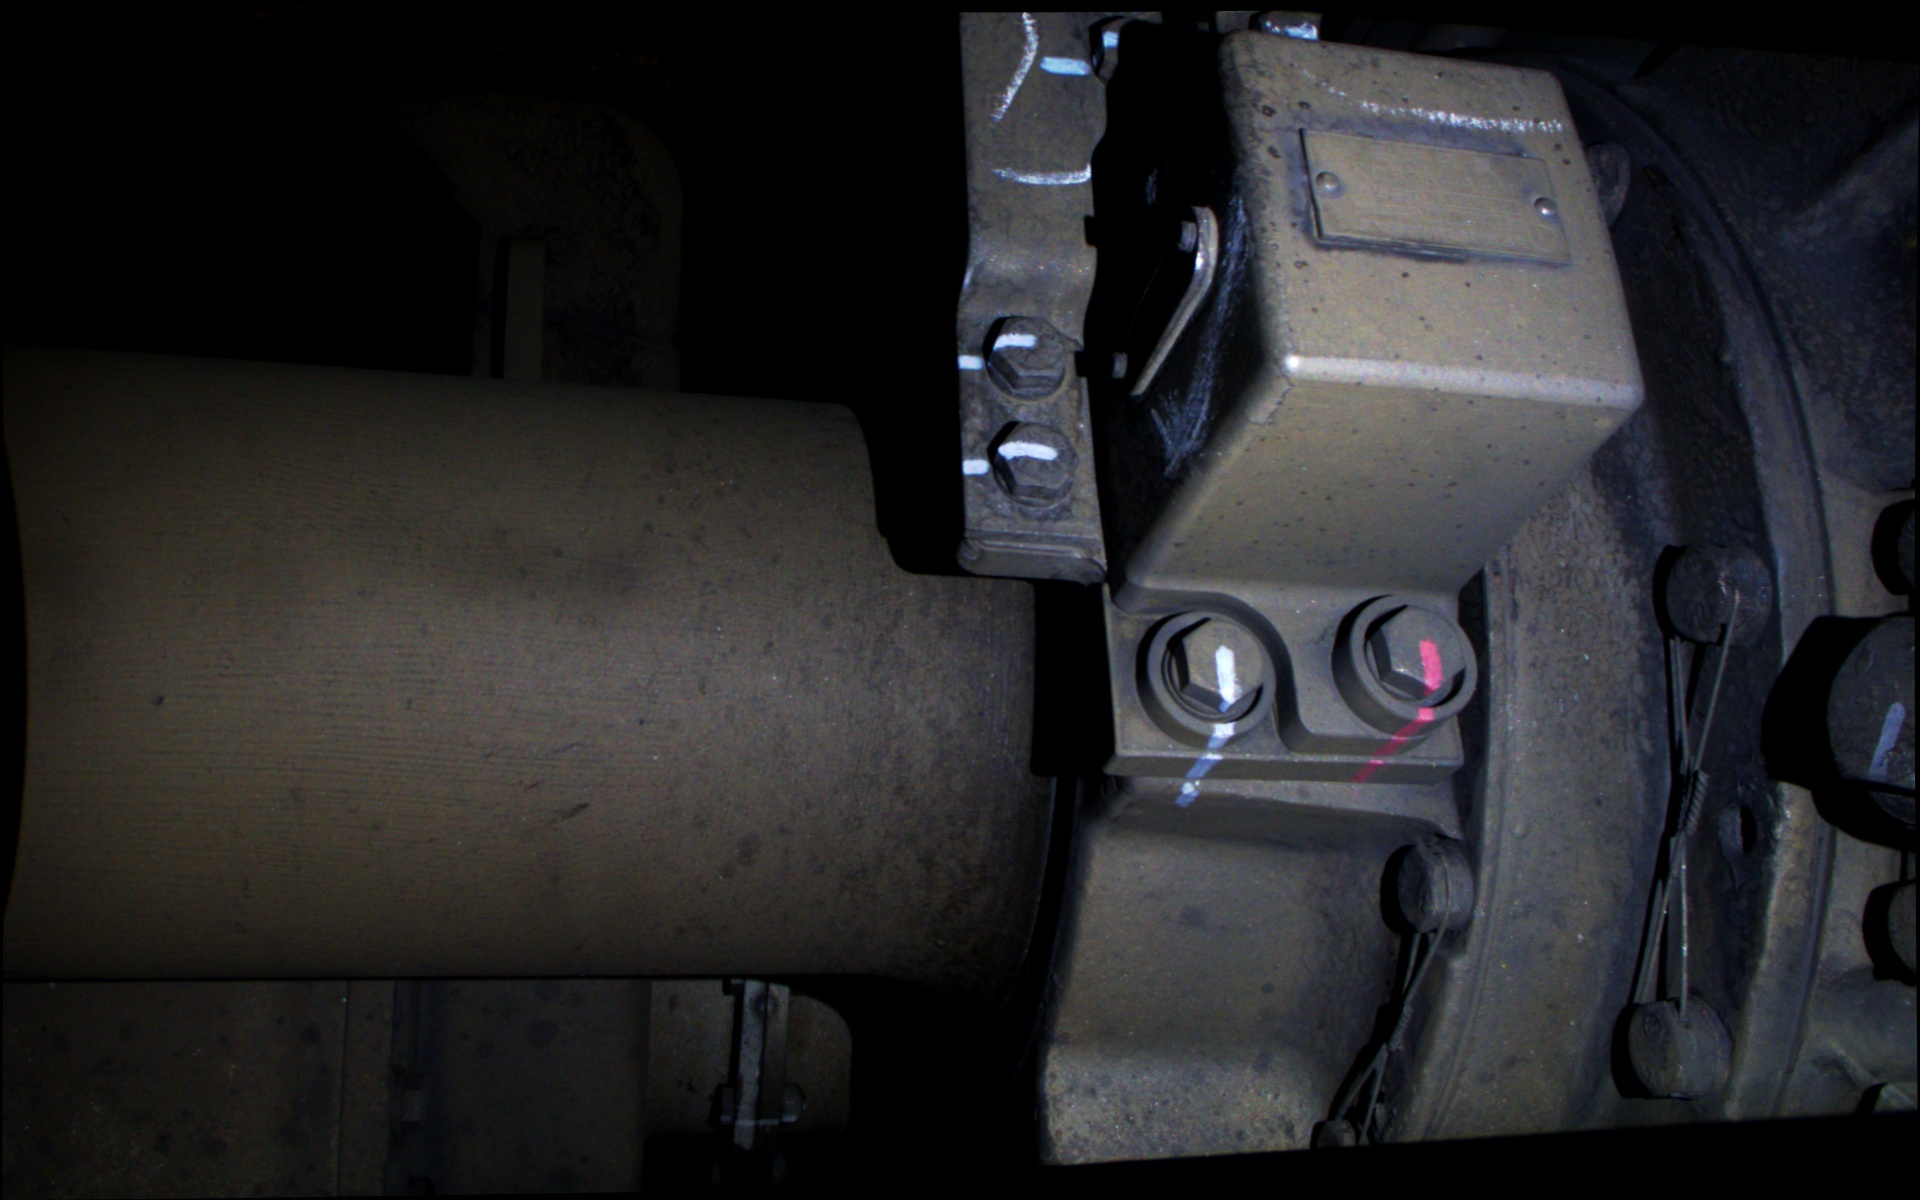bolthead1: (988, 306, 1071, 400)
bolthead2: (986, 419, 1080, 507)
bolthead3: (1150, 610, 1268, 724)
bolthead4: (1362, 599, 1471, 708)
